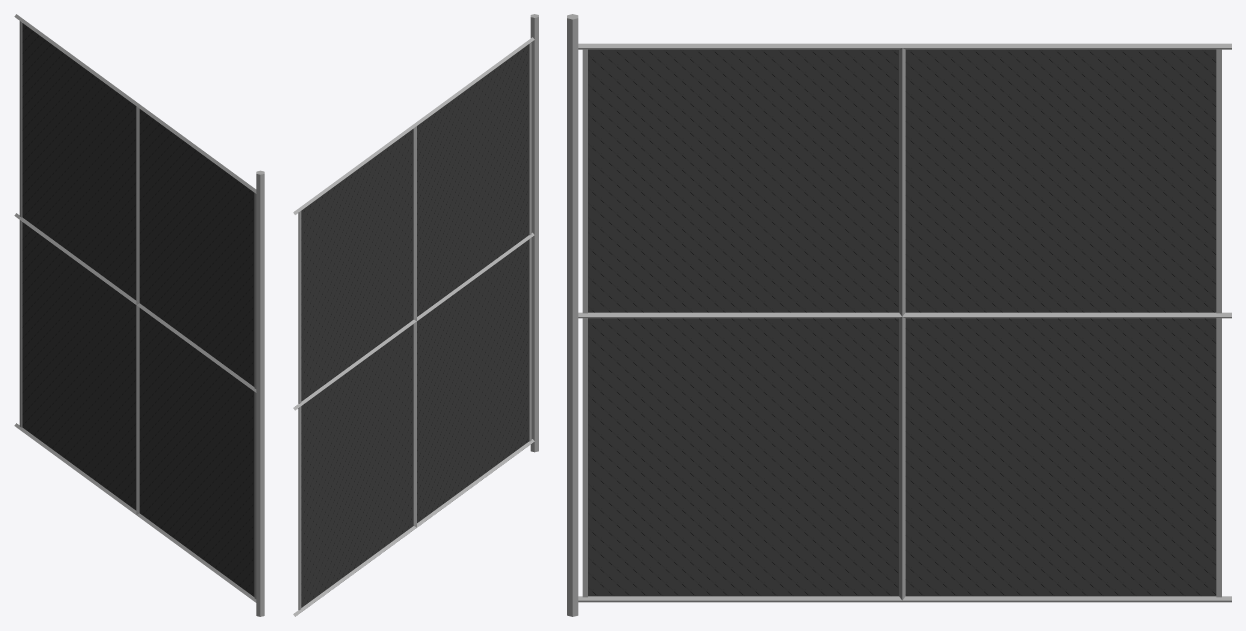
File: SM_fence_105.gltf
3 views of the same model, side by side, from view 1: azimuth 30°, elevation 25°; view 2: azimuth 150°, elevation 25°; view 3: azimuth 270°, elevation 25° (orthographic). The views are drawn at different scales.
Parts seen in each view (by area): view 1: SM_fence_105; view 2: SM_fence_105; view 3: SM_fence_105.
Boxes of the visible parts, box(x1,y1,x2,y2) form: SM_fence_105: box(14, 14, 264, 616); SM_fence_105: box(293, 14, 538, 616); SM_fence_105: box(567, 14, 1231, 616).
Size of the model in its own units: 0.08 by 4 by 4.03.
2 materials, 2 textured.
